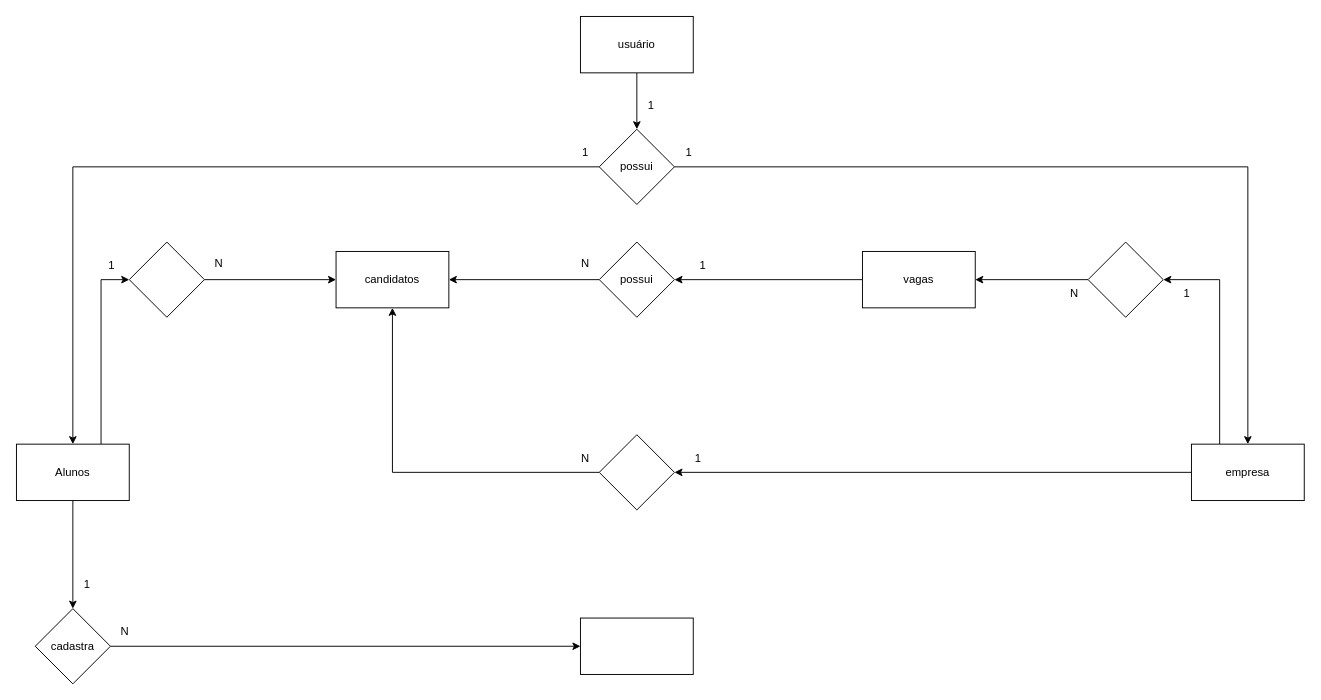
This 1321x700 diagram has some shape labels left out. Here are the shapes that lost their labels. From the top down, the centre of each, then its label:
the point at 166,279: Candidata-se
the point at 1125,279: publica
the point at 636,472: contrata
the point at 636,645: curriculo
